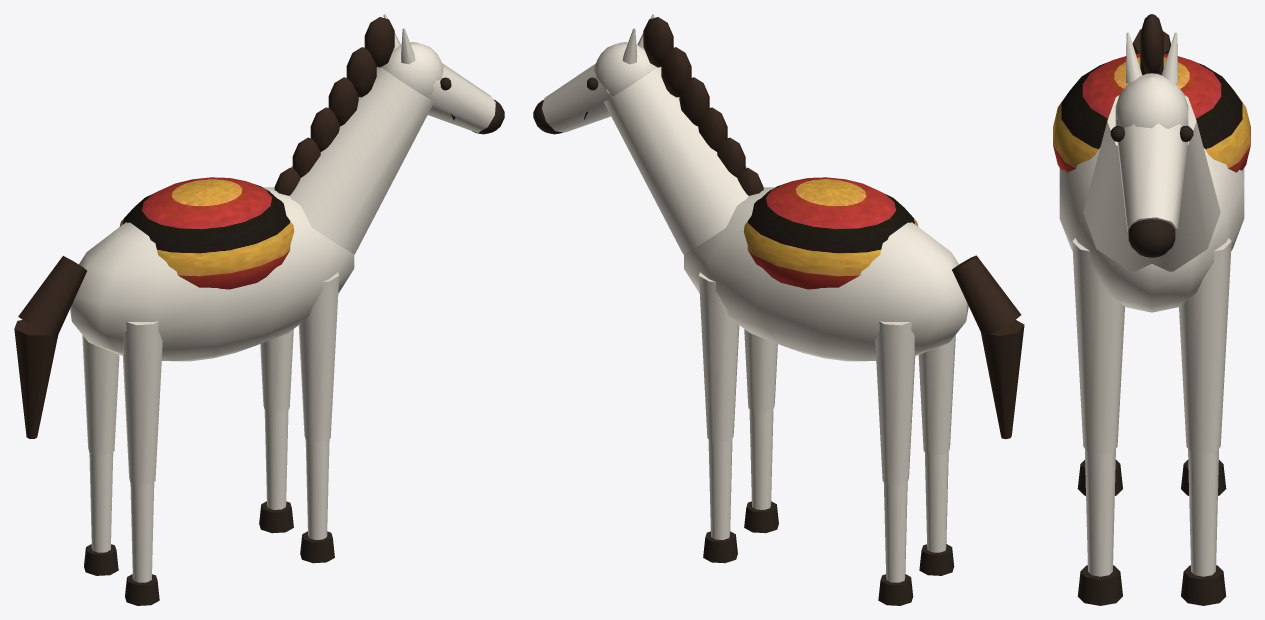
The model's file is etalon.glb.
The picture shows the model from 3 angles, left to right: view 1: azimuth 30°, elevation 25°; view 2: azimuth 150°, elevation 25°; view 3: azimuth 270°, elevation 25°; orthographic projection. The views are drawn at different scales.
Parts seen in each view (by area): view 1: etalon; view 2: etalon; view 3: etalon.
Part boxes in pixels (left/top/right/bottom): etalon: left=14, top=14, right=504, bottom=605; etalon: left=533, top=14, right=1024, bottom=605; etalon: left=1053, top=14, right=1250, bottom=605.
Bounding box in the file's own units: 2.05 × 2.03 × 0.5759.
Materials: 5 (1 with a texture image).
